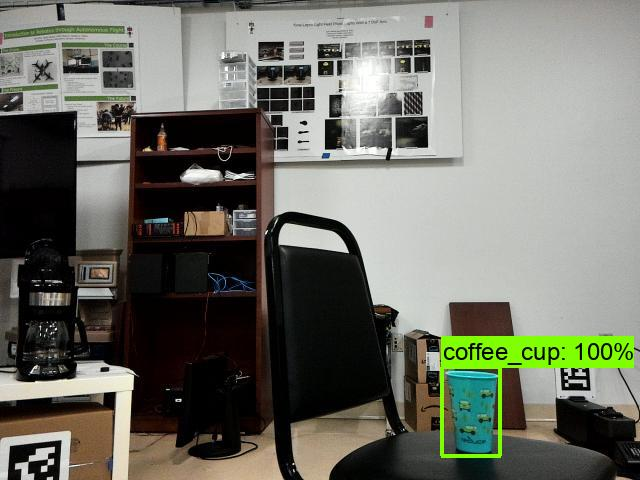coffee_cup: (442, 367, 502, 456)
